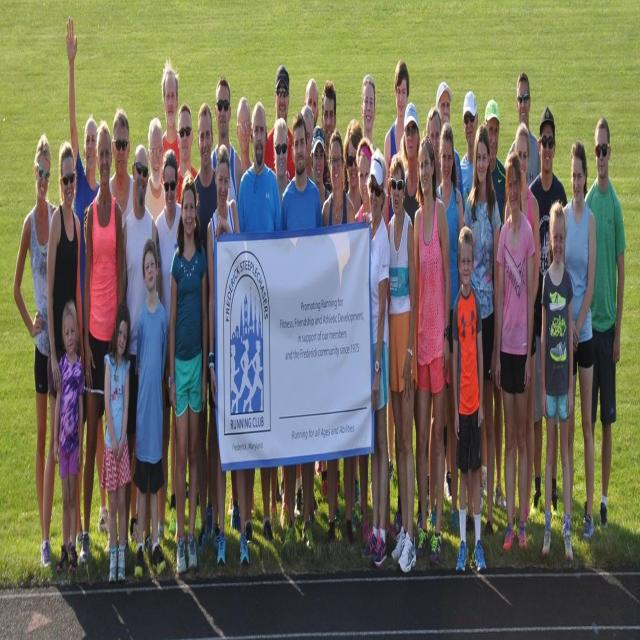body: (64, 11, 110, 552), (77, 115, 126, 571), (38, 135, 89, 571), (236, 100, 282, 547), (13, 131, 59, 571), (280, 111, 325, 557), (581, 109, 627, 539), (206, 141, 249, 567), (410, 132, 452, 568), (354, 133, 398, 545), (206, 73, 244, 538), (166, 168, 208, 579), (494, 145, 536, 555), (501, 118, 542, 538), (122, 142, 162, 567), (528, 104, 568, 520), (463, 120, 502, 546), (392, 99, 428, 545), (427, 118, 464, 533), (560, 138, 598, 541), (322, 127, 357, 550), (450, 224, 490, 581), (538, 195, 576, 568), (132, 233, 170, 586), (387, 151, 418, 578), (362, 144, 392, 568), (192, 102, 220, 555), (383, 58, 410, 487), (155, 146, 183, 546), (294, 103, 319, 520), (482, 98, 507, 514), (52, 296, 85, 587), (102, 297, 132, 586), (504, 69, 542, 191), (264, 63, 298, 181), (436, 80, 465, 217), (108, 106, 134, 227), (161, 61, 183, 188), (144, 116, 167, 228), (459, 87, 479, 214), (174, 102, 198, 207), (320, 78, 338, 194), (343, 116, 364, 215), (309, 124, 332, 209), (272, 118, 292, 210), (425, 104, 443, 191), (361, 72, 378, 153), (236, 95, 253, 173), (303, 75, 319, 129)
